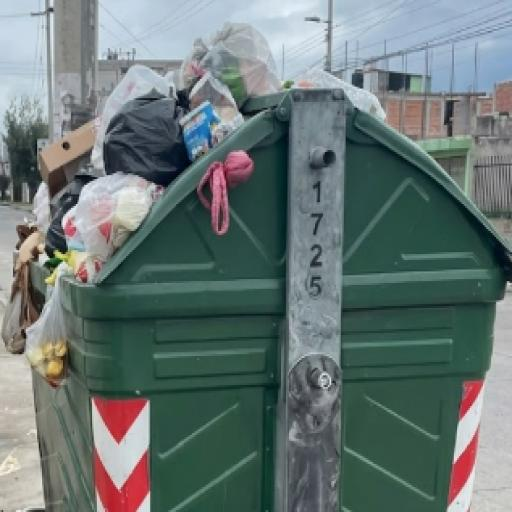Contenedor_Desbordado: (39, 79, 510, 510)
